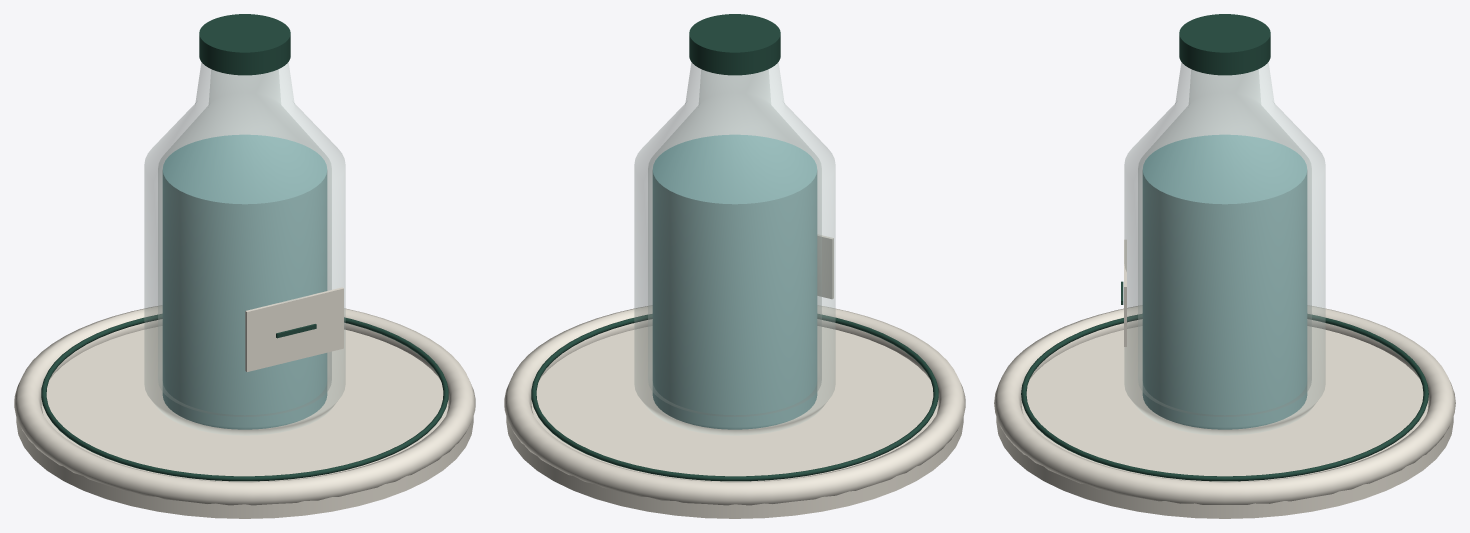
The model's file is water-regular.glb.
3 views of the same model, side by side, from view 1: azimuth 30°, elevation 25°; view 2: azimuth 150°, elevation 25°; view 3: azimuth 270°, elevation 25° (orthographic).
Parts seen in each view (by area): view 1: Morsel original water regular; view 2: Morsel original water regular; view 3: Morsel original water regular.
Part boxes in pixels (x1=…): Morsel original water regular: x1=14, y1=14, x2=475, y2=518; Morsel original water regular: x1=504, y1=14, x2=965, y2=518; Morsel original water regular: x1=994, y1=14, x2=1455, y2=518.
Bounding box in the file's own units: 2.02 × 1.88 × 2.02.
